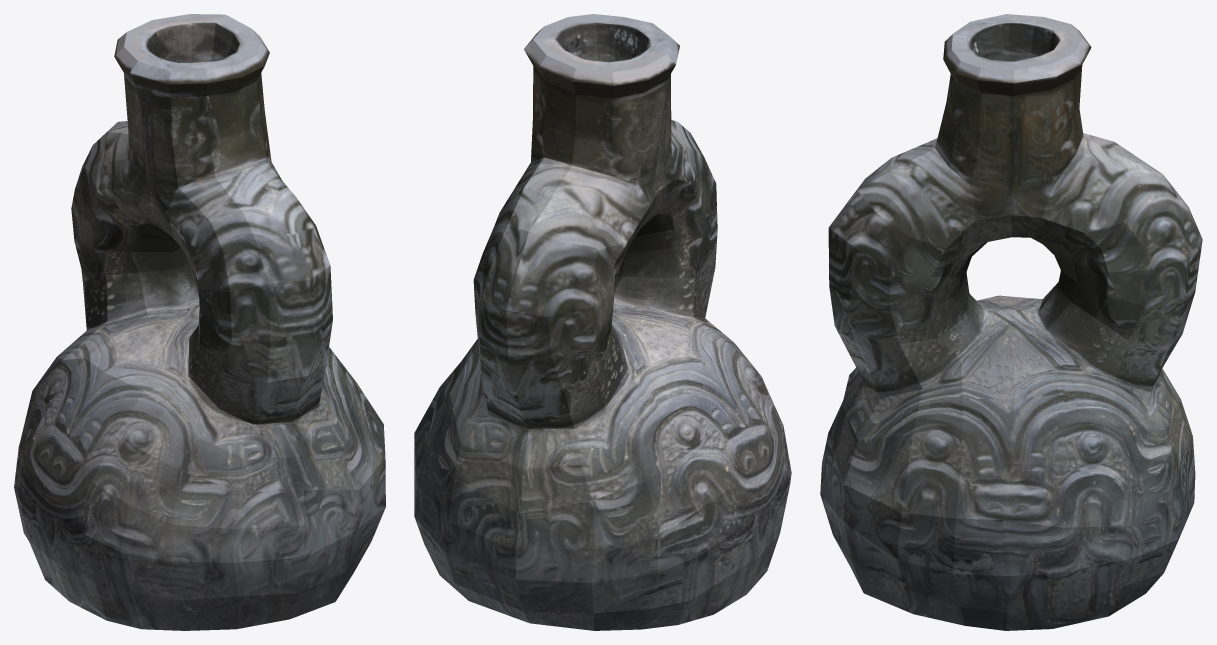
The model's file is 1_botella-204002-chavin.glb.
The picture shows the model from 3 angles, left to right: view 1: azimuth 30°, elevation 25°; view 2: azimuth 150°, elevation 25°; view 3: azimuth 270°, elevation 25°; orthographic projection.
Visible parts, largest first — view 1: Box001; view 2: Box001; view 3: Box001.
Part boxes in pixels (box(x1,y1,x2,y2)): Box001: box(14, 14, 385, 630); Box001: box(414, 14, 791, 630); Box001: box(820, 14, 1202, 630).
Bounding box in the file's own units: 0.1132 × 0.177 × 0.1176.
1 material, 1 textured.
